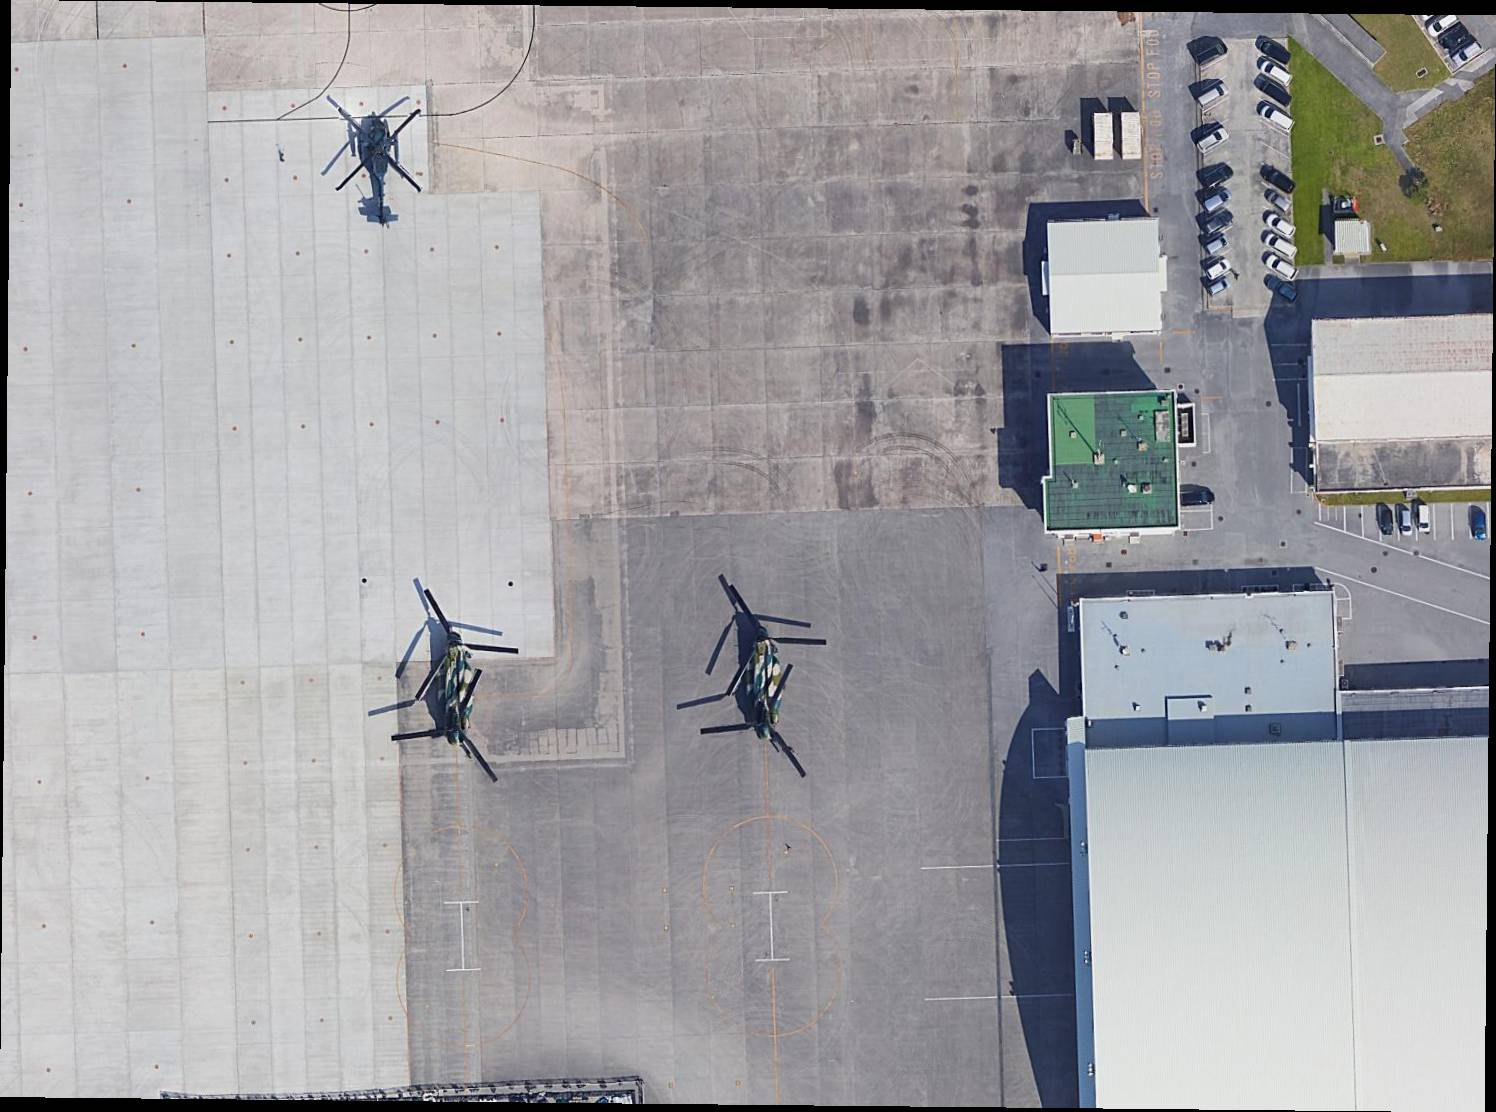helicopter: (700, 582, 835, 790), (392, 585, 520, 785), (313, 90, 444, 239)
